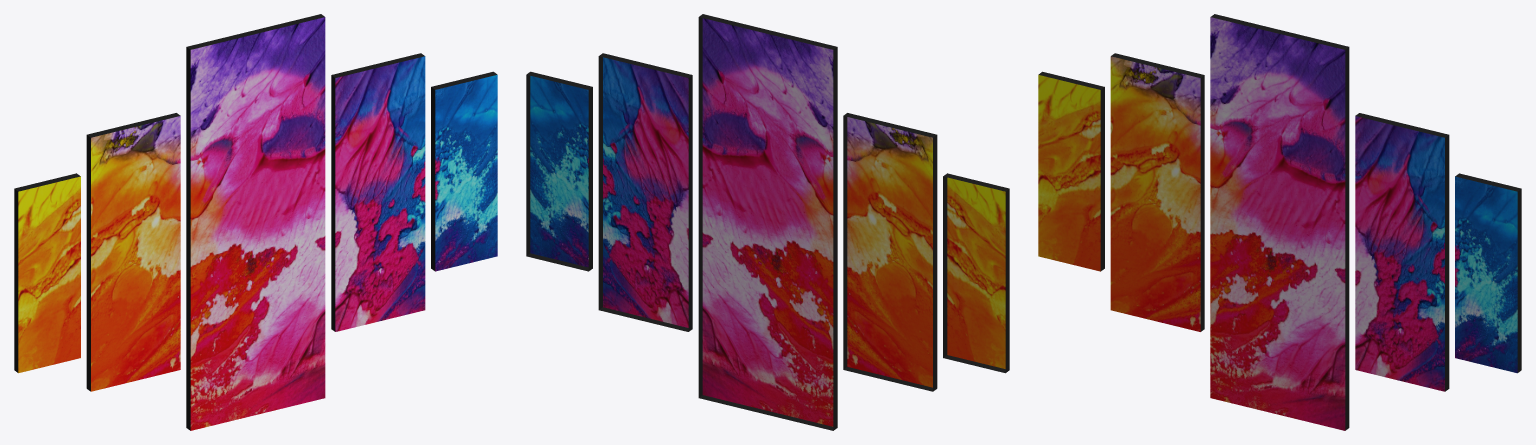
File: Frame_06.FBX
3 renders of one model, left to right at view 1: azimuth 30°, elevation 25°; view 2: azimuth 150°, elevation 25°; view 3: azimuth 330°, elevation 25°, orthographic.
Parts seen in each view (by area): view 1: Frame06; view 2: Frame06; view 3: Frame06.
Part boxes in pixels (x1,y1,x2,y2): Frame06: [14, 14, 497, 430]; Frame06: [526, 14, 1009, 430]; Frame06: [1038, 14, 1521, 430].
Bounding box in the file's own units: 1.98 × 1.5 × 0.03.
